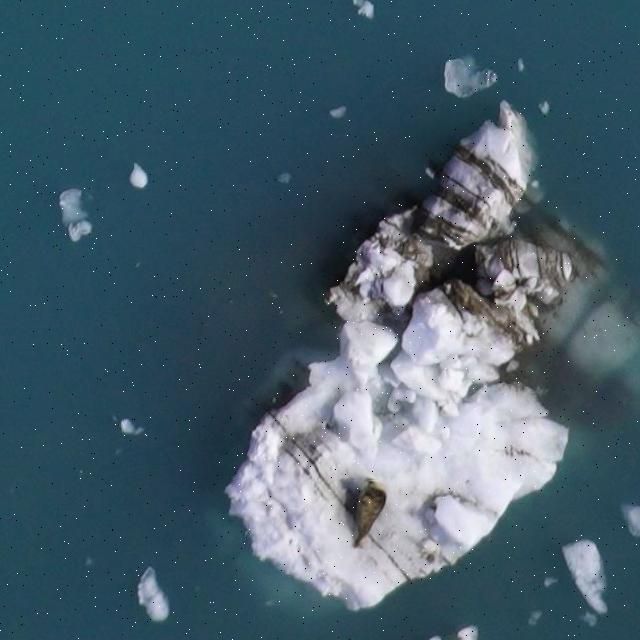seal: (353, 480, 386, 548)
